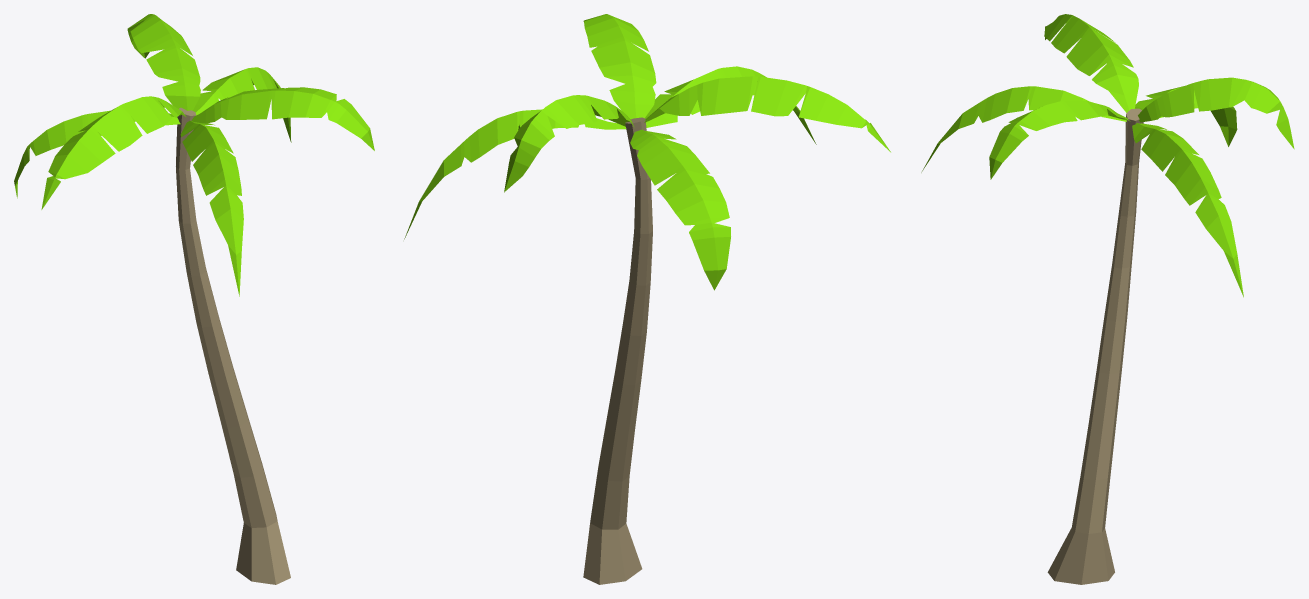
File: palm03.fbx
3 renders of one model, left to right at view 1: azimuth 30°, elevation 25°; view 2: azimuth 150°, elevation 25°; view 3: azimuth 270°, elevation 25°, orthographic. The views are drawn at different scales.
Visible parts, largest first — view 1: palm.003; view 2: palm.003; view 3: palm.003.
Part boxes in pixels (x1,y1,x2,y2): palm.003: [14, 14, 374, 584]; palm.003: [404, 14, 890, 584]; palm.003: [921, 14, 1294, 584].
Bounding box in the file's own units: 242 × 329 × 229.
